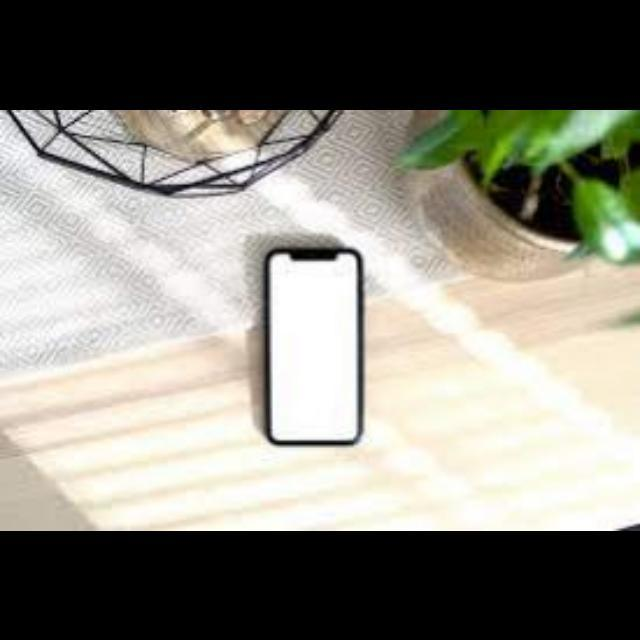Phone: (262, 244, 366, 448)
